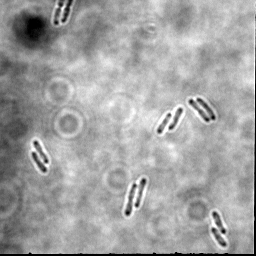Dividing: (187, 97, 212, 123), (123, 182, 139, 217), (32, 138, 50, 164), (51, 1, 66, 27), (60, 1, 75, 24)
Rod: (195, 96, 217, 121), (134, 177, 148, 209), (168, 105, 185, 131), (155, 111, 173, 134), (210, 210, 227, 234), (210, 226, 228, 248), (30, 151, 48, 173)
